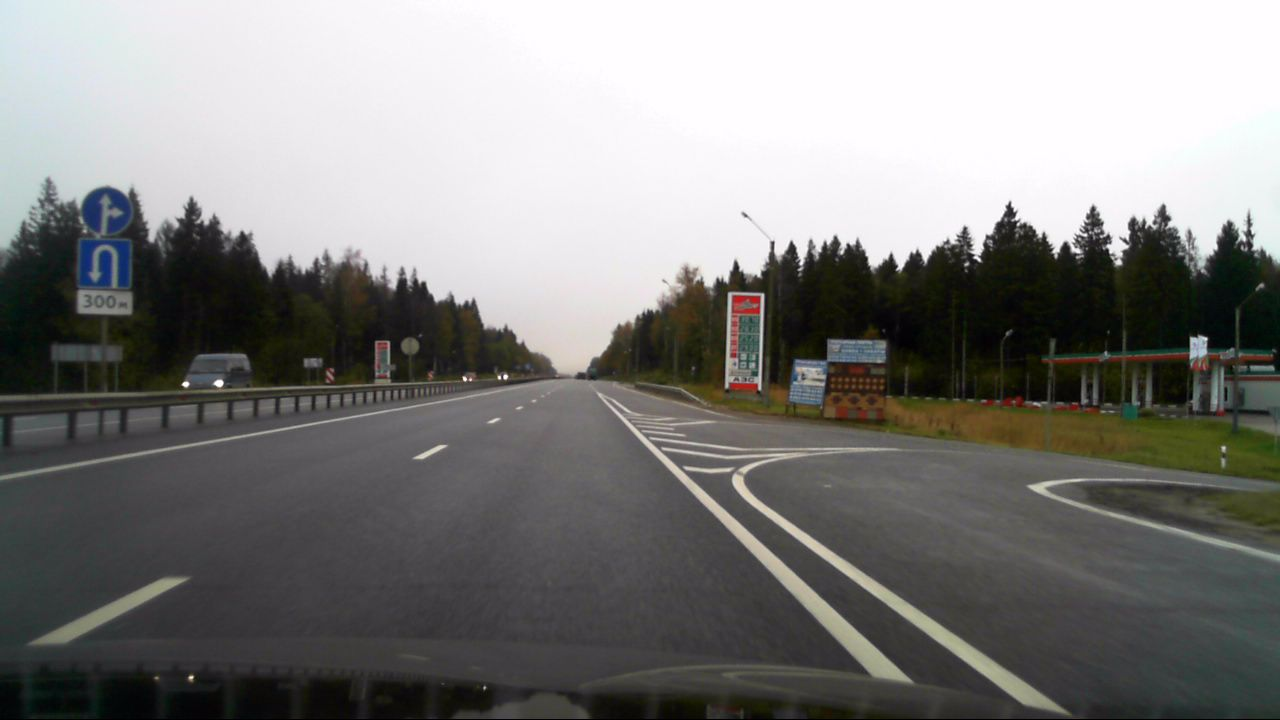U-turn: (78, 239, 131, 289)
